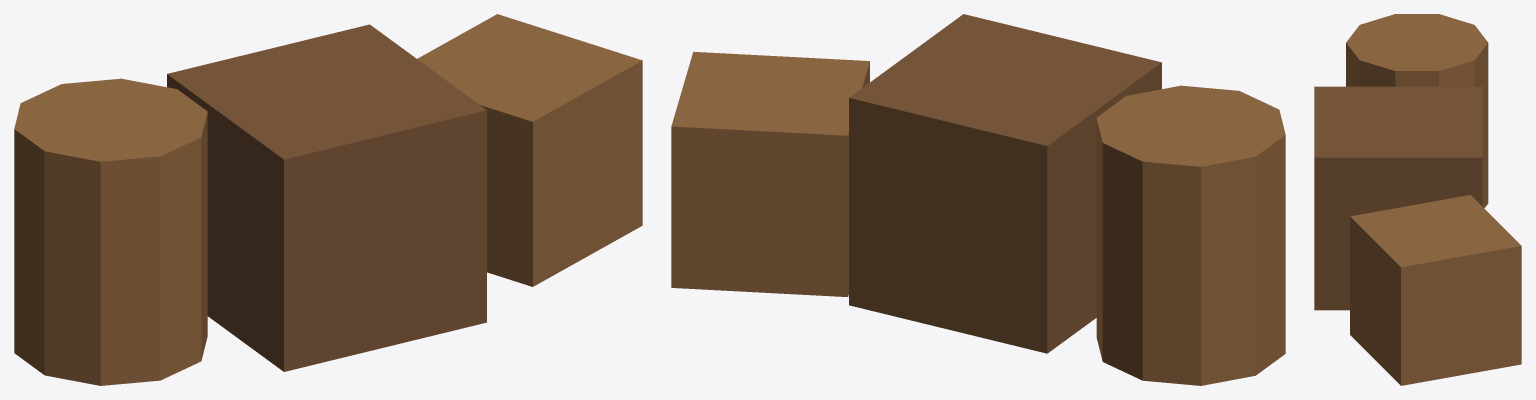
Rendered from crates.glb.
3 renders of one model, left to right at view 1: azimuth 30°, elevation 25°; view 2: azimuth 150°, elevation 25°; view 3: azimuth 270°, elevation 25°, orthographic. The views are drawn at different scales.
Parts seen in each view (by area): view 1: Crates; view 2: Crates; view 3: Crates.
Part boxes in pixels (x1=…): Crates: x1=14, y1=14, x2=642, y2=385; Crates: x1=671, y1=14, x2=1285, y2=385; Crates: x1=1314, y1=14, x2=1521, y2=385.
Bounding box in the file's own units: 2.67 × 0.95 × 1.11.
